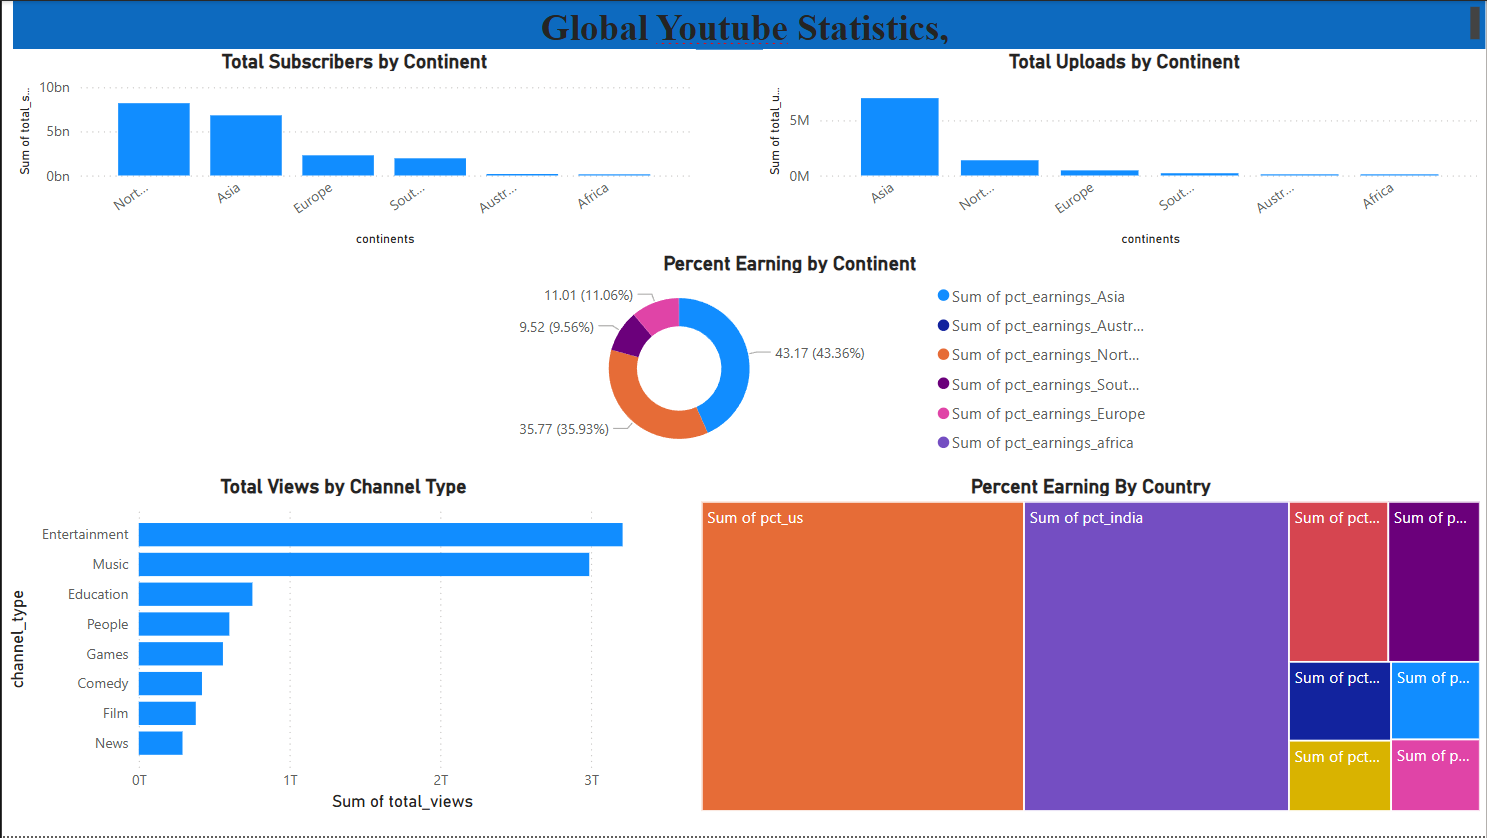

The dashboard page shown, as its layout file describes it:
{"tool":"powerbi","page":{"name":"Page 1","canvas":[1280,720],"ordinal":0},"visuals":[{"type":"textbox","box":[9.7,0,1270.3,41.8],"z":0},{"type":"donutChart","title":"Percent Earning by Continent","fields":{"Y":["Sum(Continent Percent.pct_earnings_Asia)","Sum(Continent Percent.pct_earnings_Australia_and_Oceania)","Sum(Continent Percent.pct_earnings_North_America)","Sum(Continent Percent.pct_earnings_South_America)","Sum(Continent Percent.pct_earnings_Europe)","Sum(Continent Percent.pct_earnings_africa)"]},"box":[357.1,215.6,645.2,183.7],"z":1000},{"type":"columnChart","title":"Total Uploads by Continent","fields":{"Category":["Continent Count.continents"],"Y":["Sum(Continent Count.total_uploads)"]},"box":[656.4,41.4,623.6,174.2],"z":2000},{"type":"columnChart","title":"Total Subscribers by Continent","fields":{"Category":["Continent Count.continents"],"Y":["Sum(Continent Count.total_subs)"]},"box":[9.5,41.4,589.1,174.2],"z":3000},{"type":"clusteredBarChart","title":"Total Views by Channel Type","fields":{"Category":["Channel Type.channel_type"],"Y":["Sum(Channel Type.total_views)"]},"box":[0,408,589.1,295],"z":4000},{"type":"treemap","title":"Percent Earning By Country","fields":{"Values":["Sum(Country Percent.pct_argentina)","Sum(Country Percent.pct_uk)","Sum(Country Percent.pct_us)","Sum(Country Percent.pct_southKorea)","Sum(Country Percent.pct_russia)","Sum(Country Percent.pct_india)","Sum(Country Percent.pct_pakistan)","Sum(Country Percent.pct_brazil)"]},"box":[598.6,408,681.4,295.8],"z":5000}]}

Visuals, with their boxes in screenshot pixels (x1, y1, x2, y2), scaled from the page's 1280x720 canvas onto the 1487x838 screenshot:
textbox: x1=11 y1=0 x2=1486 y2=49
"Percent Earning by Continent" donutChart: x1=415 y1=251 x2=1164 y2=465
"Total Uploads by Continent" columnChart: x1=763 y1=48 x2=1486 y2=251
"Total Subscribers by Continent" columnChart: x1=11 y1=48 x2=695 y2=251
"Total Views by Channel Type" clusteredBarChart: x1=0 y1=475 x2=684 y2=818
"Percent Earning By Country" treemap: x1=695 y1=475 x2=1486 y2=819
